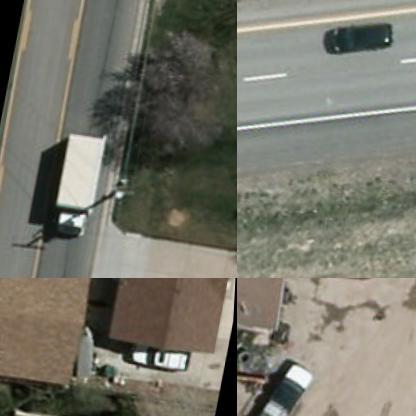car: (324, 14, 395, 58), (135, 338, 196, 370)
pickup: (249, 355, 318, 415)
truck: (52, 127, 106, 238)
